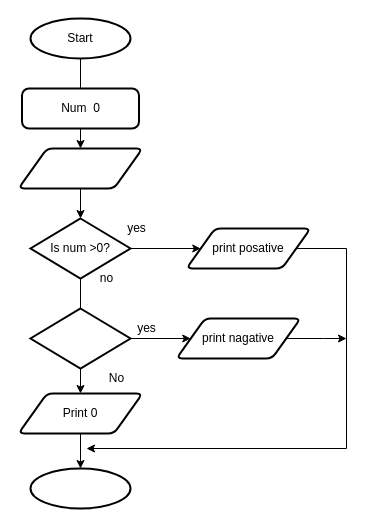
Some shapes in this 372 by 526 pixel diagram are drawn without their labels. The shapes that lost their labels are listed below. From the top down, each one's centre as x and y in pixels, then its label:
At (80,168): "Read no".
At (80,338): "Is num <0?".
At (80,488): "Stop".
